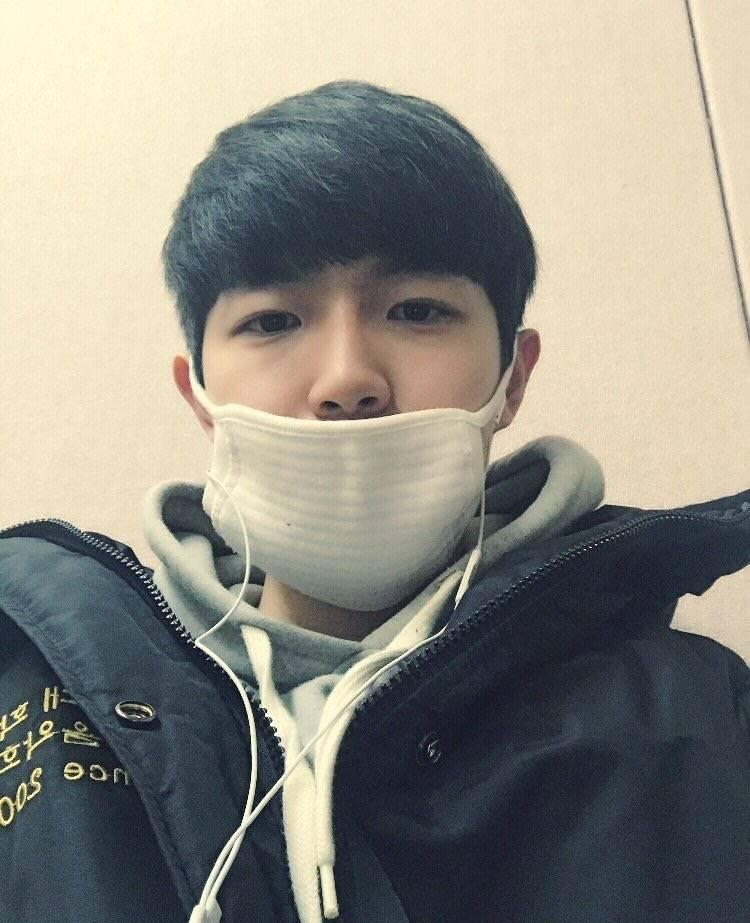WRONG: (172, 238, 538, 604)
